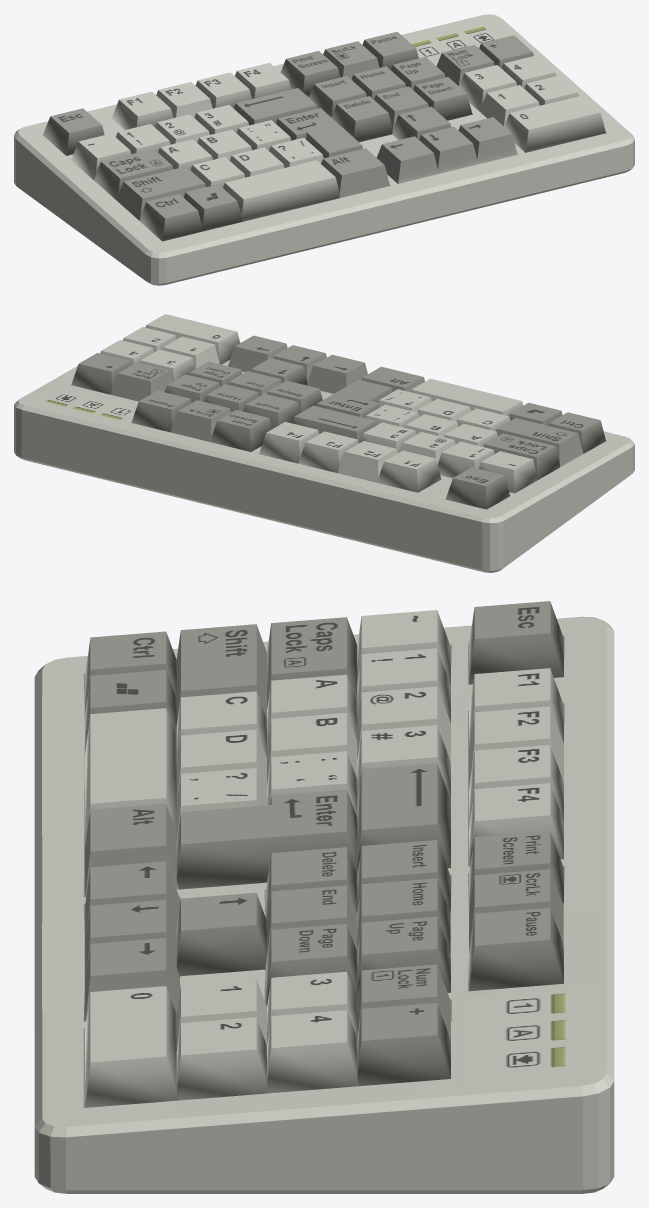
Rendered from Keyboard.fbx.
The picture shows the model from 3 angles, top to bottom: view 1: azimuth 30°, elevation 25°; view 2: azimuth 150°, elevation 25°; view 3: azimuth 270°, elevation 25°; orthographic projection. The views are drawn at different scales.
Parts seen in each view (by area): view 1: LP, LP_cell.002, LP_cell, LP.007, LP.024, LP_cell.001, LP.009, LP.015, LP_cell.003, LP.001, LP.017, LP.010 (+28 smaller); view 2: LP, LP_cell.001, LP_cell, LP.012, LP.013, LP.007, LP.024, LP.018, LP.009, LP.010, LP.001, LP.011 (+24 smaller); view 3: LP, LP_cell.001, LP_cell.003, LP_cell, LP.009, LP.024, LP.007, LP.010, LP.027, LP.026, LP.020, LP.025 (+26 smaller).
Boxes of the visible parts, <box> form: LP: <box>14,14,634,285</box>; LP_cell.002: <box>265,94,534,260</box>; LP_cell: <box>14,64,280,284</box>; LP.007: <box>223,160,339,221</box>; LP.024: <box>504,95,605,152</box>; LP_cell.001: <box>362,15,547,67</box>; LP.009: <box>276,108,362,158</box>; LP.015: <box>140,194,203,241</box>; LP_cell.003: <box>450,60,631,194</box>; LP.001: <box>94,149,173,199</box>; LP.017: <box>331,96,392,142</box>; LP.010: <box>233,88,317,125</box>; LP: <box>14,327,634,572</box>; LP_cell.001: <box>14,366,230,508</box>; LP_cell: <box>225,431,634,571</box>; LP.012: <box>445,467,509,509</box>; LP.013: <box>378,450,441,492</box>; LP.007: <box>410,378,523,415</box>; LP.024: <box>145,314,240,364</box>; LP.018: <box>211,410,271,451</box>; LP.009: <box>316,379,392,417</box>; LP.010: <box>292,405,376,443</box>; LP.001: <box>483,433,559,480</box>; LP.011: <box>298,431,358,472</box>; LP: <box>34,616,614,1193</box>; LP_cell.001: <box>382,876,614,1193</box>; LP_cell.003: <box>34,958,403,1193</box>; LP_cell: <box>34,616,614,897</box>; LP.009: <box>176,789,358,889</box>; LP.024: <box>85,986,178,1107</box>; LP.007: <box>85,708,176,847</box>; LP.010: <box>356,763,450,874</box>; LP.027: <box>469,907,563,991</box>; LP.026: <box>356,1003,450,1085</box>; LP.020: <box>176,892,266,976</box>; LP.025: <box>266,1010,359,1093</box>.
Bounding box in the file's own units: 248 × 35.55 × 128.
